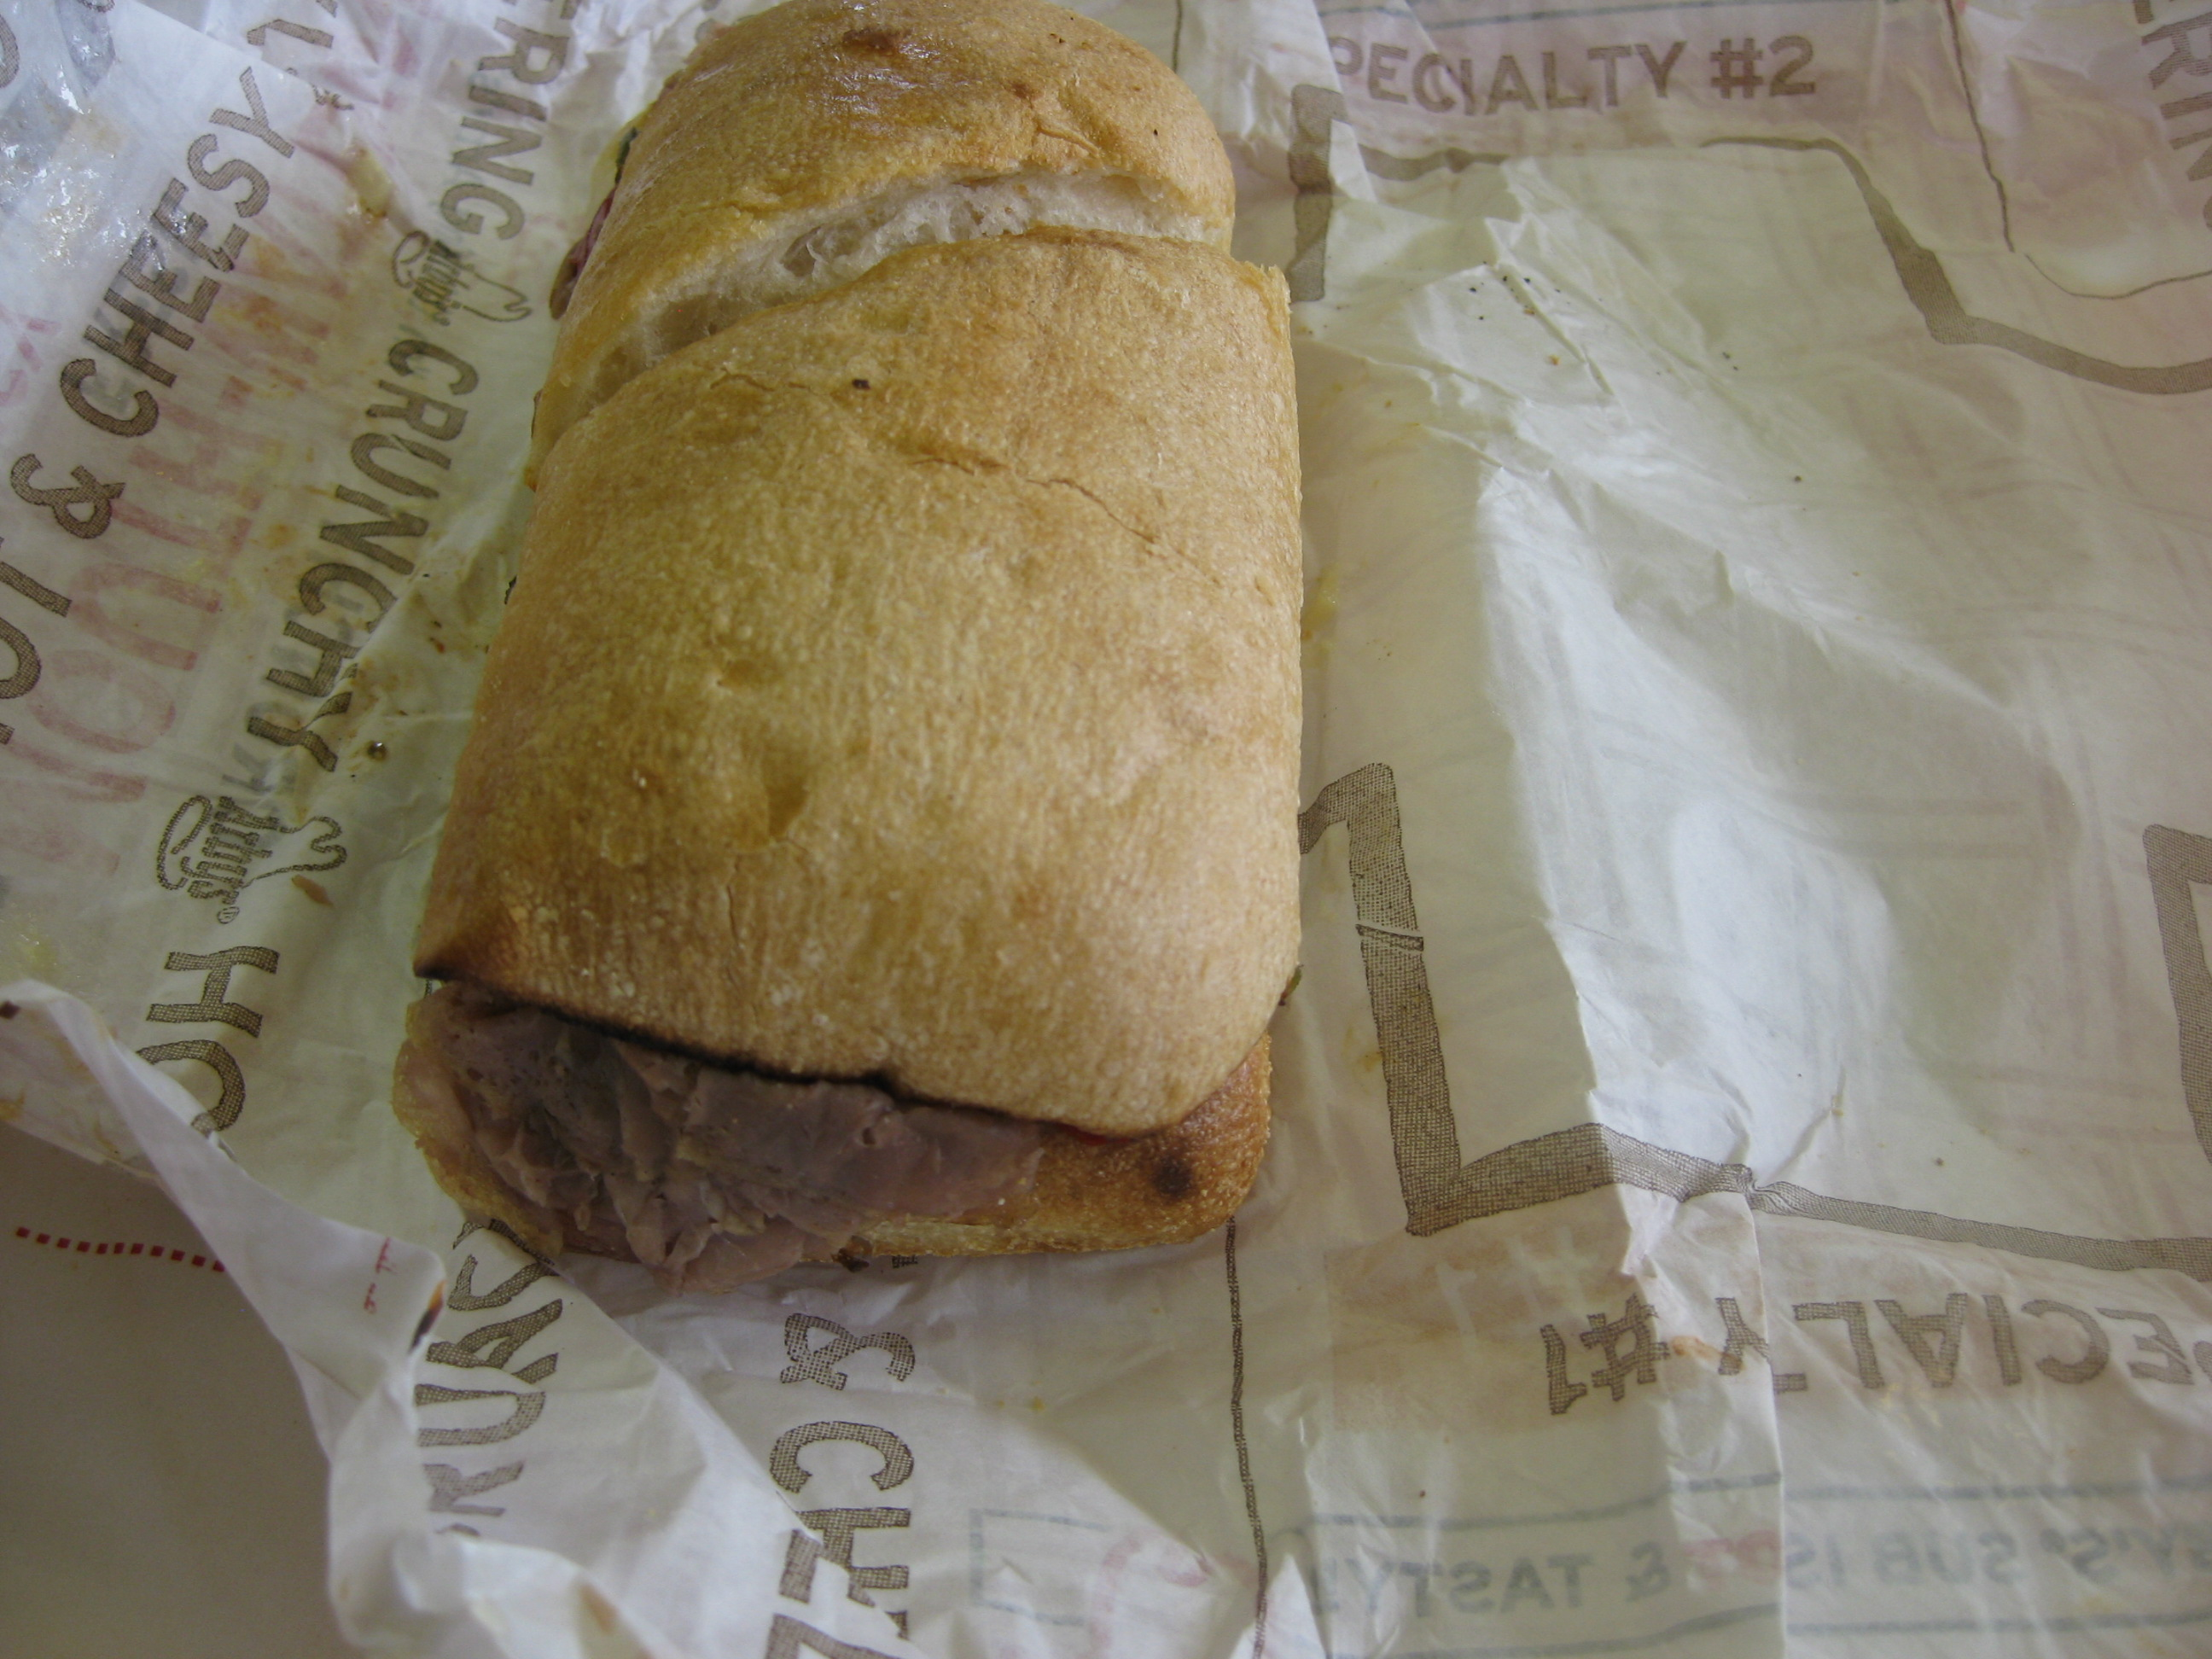sub: (417, 10, 1452, 1342)
